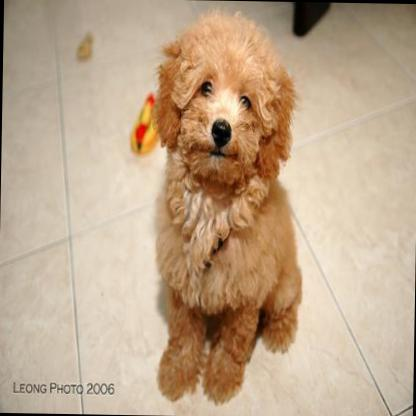miniature_poodle: (147, 6, 309, 410)
